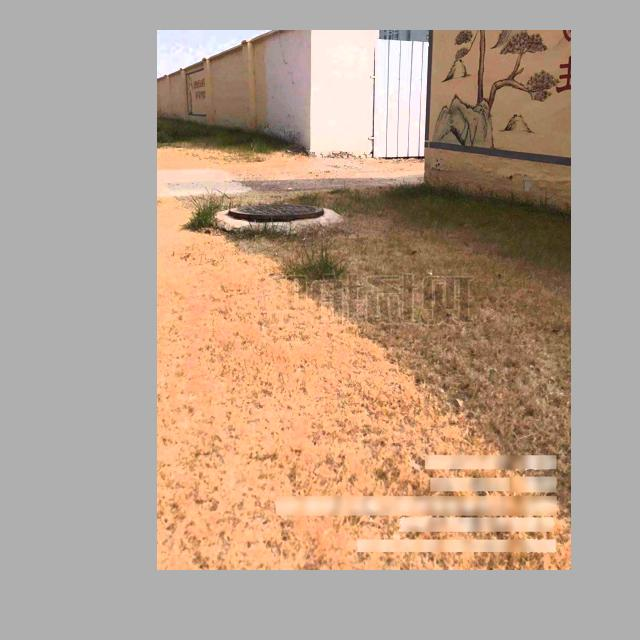uncovered: (216, 203, 331, 228)
